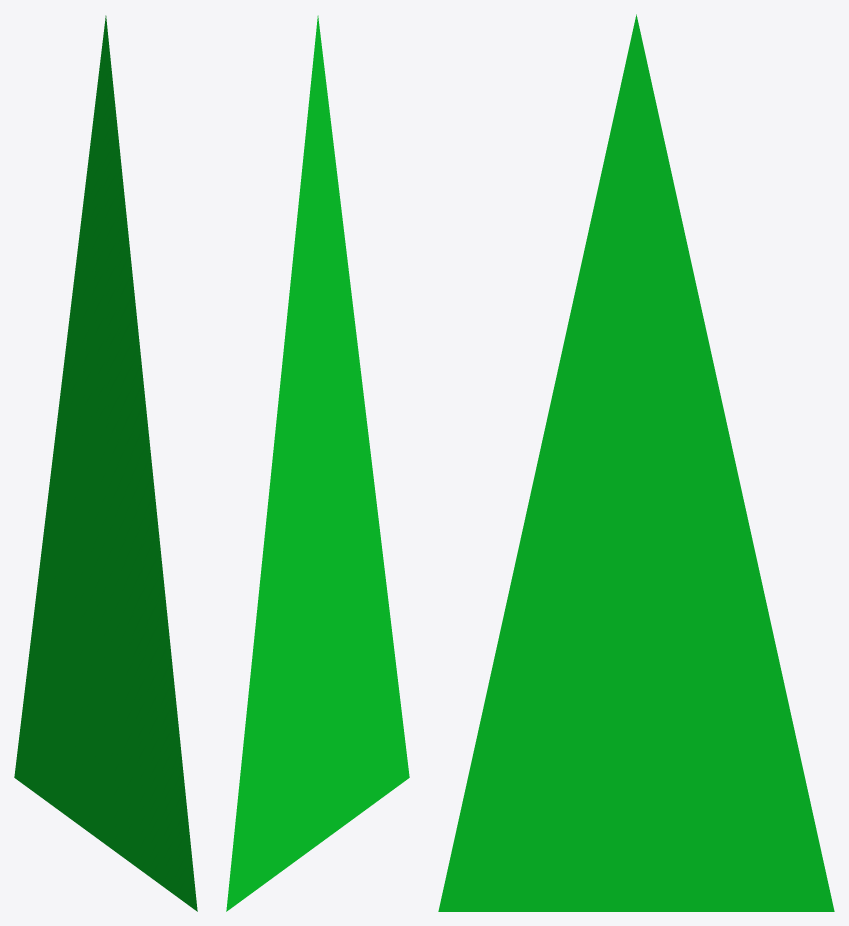
The model's file is GrassBlade.glb.
3 renders of one model, left to right at view 1: azimuth 30°, elevation 25°; view 2: azimuth 150°, elevation 25°; view 3: azimuth 270°, elevation 25°, orthographic. The views are drawn at different scales.
Visible parts, largest first — view 1: GrassBlade; view 2: GrassBlade; view 3: GrassBlade.
Boxes of the visible parts, x1,y1,x2,y2 form: GrassBlade: (14, 15, 197, 911); GrassBlade: (226, 15, 409, 911); GrassBlade: (438, 14, 834, 911).
Size of the model in its own units: 0 by 0.5 by 0.2.
